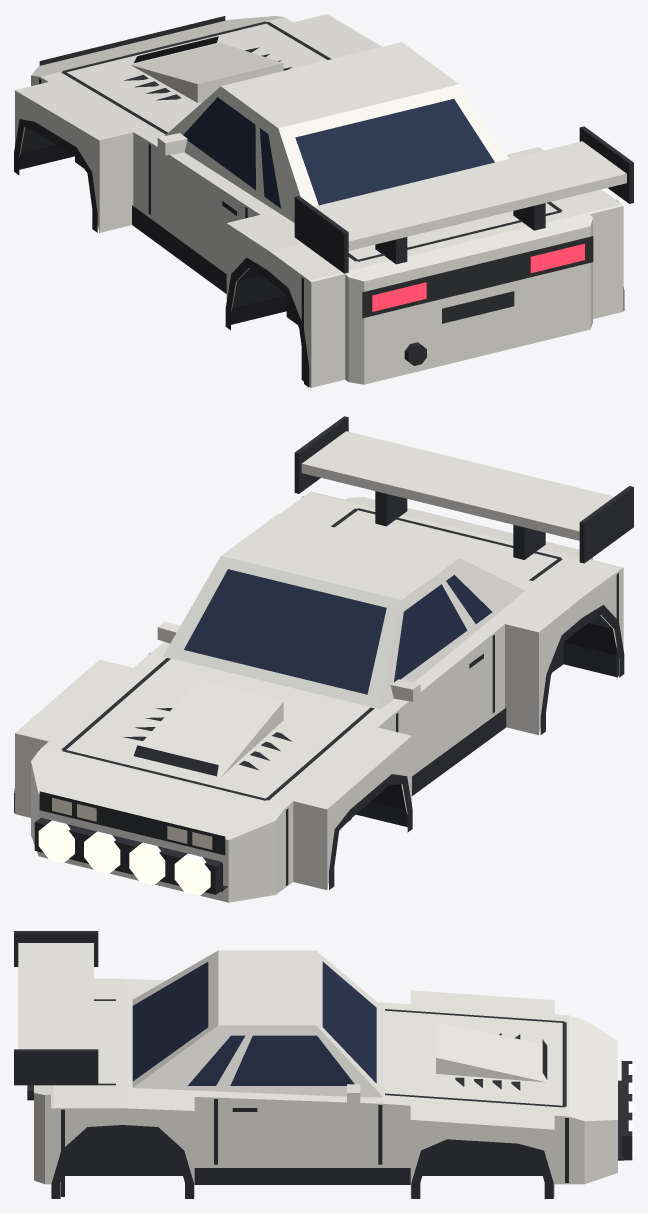
File: Blitz.fbx
The picture shows the model from 3 angles, top to bottom: view 1: azimuth 30°, elevation 25°; view 2: azimuth 150°, elevation 25°; view 3: azimuth 270°, elevation 25°; orthographic projection. The views are drawn at different scales.
Parts seen in each view (by area): view 1: BumperRear, DeckWingBlade, Hood, RearWindow, Roof, Pillars, Fender_FL, Door_FL, DeckWing, Opt_Hood_Scoop_HoodScoop, TailGarnish, Trunk (+17 smaller); view 2: Hood, BumperFront, Windshield, DeckWingBlade, Pillars, Roof, Trunk, Opt_Hood_Scoop_HoodScoop, Door_FL, Fender_RL, Fender_FL, DeckWing (+15 smaller); view 3: Hood, Door_FR, Pillars, DeckWingBlade, BumperFront, Roof, WheelWell, Fender_FR, RearWindow, Opt_Hood_Scoop_HoodScoop, Window_FR, Fender_RR (+11 smaller).
Part boxes in pixels (left/top/right/bottom): BumperRear: left=305, top=201, right=623, bottom=387; DeckWingBlade: left=314, top=141, right=626, bottom=250; Hood: left=15, top=14, right=381, bottom=141; RearWindow: left=295, top=99, right=494, bottom=205; Roof: left=221, top=42, right=458, bottom=128; Pillars: left=165, top=84, right=508, bottom=222; Fender_FL: left=15, top=77, right=149, bottom=232; Door_FL: left=150, top=142, right=249, bottom=273; DeckWing: left=294, top=126, right=633, bottom=273; Opt_Hood_Scoop_HoodScoop: left=130, top=42, right=283, bottom=102; TailGarnish: left=362, top=236, right=593, bottom=318; Trunk: left=270, top=189, right=617, bottom=277; Hood: left=15, top=653, right=411, bottom=809; BumperFront: left=31, top=749, right=284, bottom=902; Windshield: left=184, top=569, right=386, bottom=694; DeckWingBlade: left=301, top=431, right=613, bottom=540; Pillars: left=163, top=556, right=525, bottom=709; Roof: left=221, top=514, right=458, bottom=599; Trunk: left=280, top=495, right=617, bottom=596; Opt_Hood_Scoop_HoodScoop: left=130, top=680, right=283, bottom=777; Door_FL: left=394, top=633, right=493, bottom=775; Fender_RL: left=493, top=571, right=617, bottom=735; Fender_FL: left=284, top=713, right=411, bottom=889; DeckWing: left=294, top=416, right=633, bottom=563; Hood: left=382, top=990, right=568, bottom=1129; Door_FR: left=214, top=1097, right=382, bottom=1167; Pillars: left=132, top=950, right=383, bottom=1097; DeckWingBlade: left=18, top=943, right=93, bottom=1049; BumperFront: left=569, top=1015, right=617, bottom=1184; Roof: left=218, top=950, right=315, bottom=1025; WheelWell: left=65, top=1133, right=542, bottom=1175; Fender_FR: left=382, top=1104, right=568, bottom=1197; RearWindow: left=132, top=962, right=208, bottom=1081; Opt_Hood_Scoop_HoodScoop: left=436, top=1022, right=546, bottom=1082; Window_FR: left=230, top=1035, right=354, bottom=1085; Fender_RR: left=60, top=1097, right=213, bottom=1197.
Size of the model in its own units: 696 by 362 by 1396.
